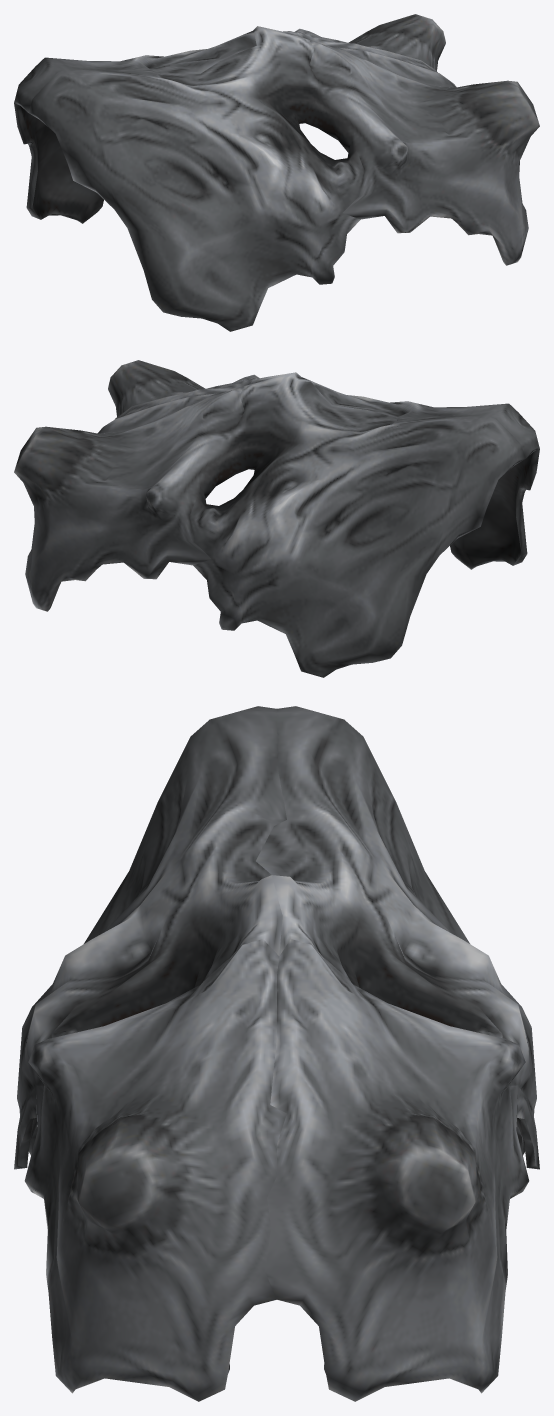
Rendered from MuteMask_Ground.fbx.
3 renders of one model, top to bottom at view 1: azimuth 30°, elevation 25°; view 2: azimuth 150°, elevation 25°; view 3: azimuth 270°, elevation 25°, orthographic. The views are drawn at different scales.
Visible parts, largest first — view 1: Mask3; view 2: Mask3; view 3: Mask3.
Boxes of the visible parts, x1,y1,x2,y2 form: Mask3: (14,14,539,331); Mask3: (14,360,539,677); Mask3: (14,706,539,1401).
Bounding box in the file's own units: 0.1347 × 0.0673 × 0.0839.
